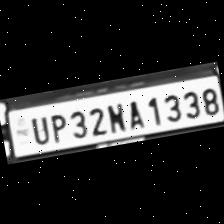1: (141, 92, 163, 125)
2: (83, 102, 107, 136)
3: (158, 88, 183, 122), (64, 105, 88, 138), (177, 86, 200, 119)
8: (196, 82, 220, 116)
A: (121, 94, 145, 129)
N: (102, 97, 127, 132)
P: (44, 109, 68, 143)
U: (24, 111, 49, 144)
